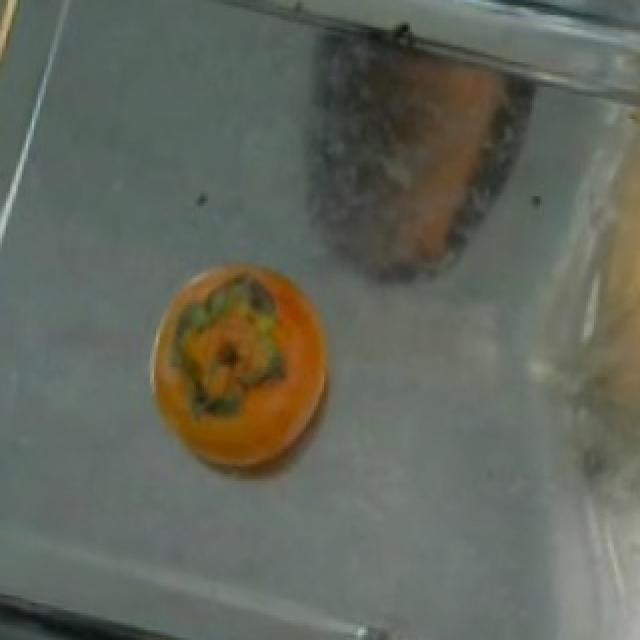Fruit: (134, 243, 356, 491), (0, 0, 46, 159)
